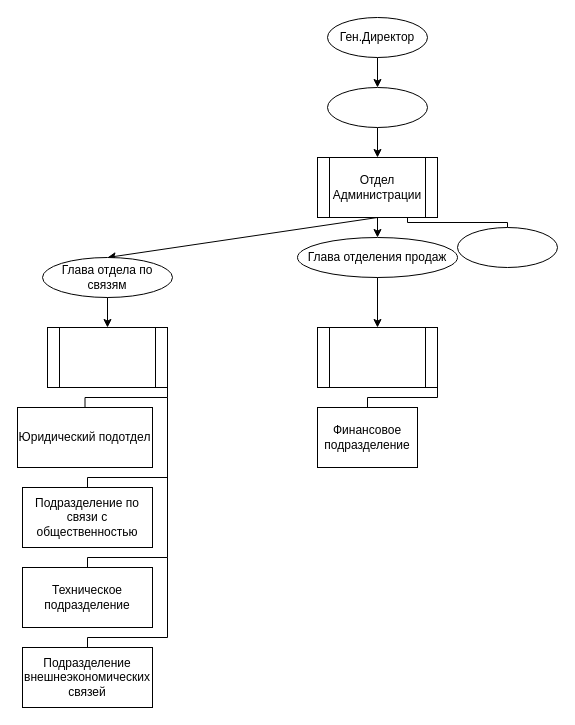
The diagram is 575 pixels wide and 725 high, and some of its shapes have lost their labels. The shapes that lost their labels are listed below. From the top down, each one's centre as x and y in pixels, then its label:
point (377, 107): Руководитель
point (507, 247): Администратор
point (107, 357): Отделение по связям
point (377, 357): Отделение продаж
